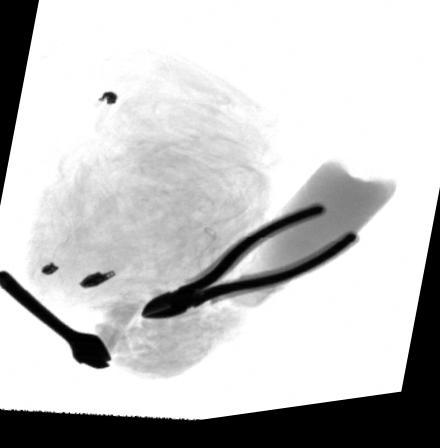Pliers: (141, 210, 358, 322)
Wrench: (0, 271, 114, 372)
